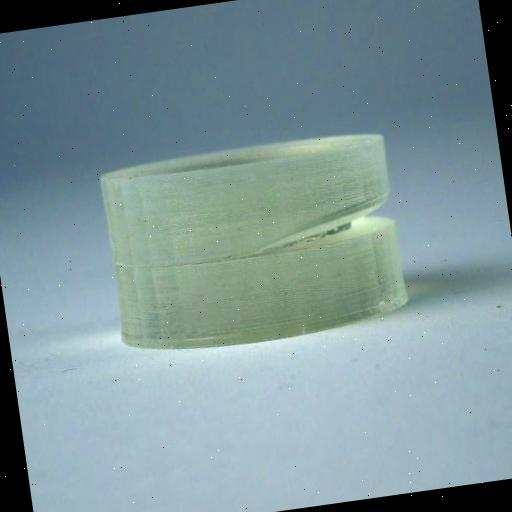cracks: (244, 194, 398, 270)
